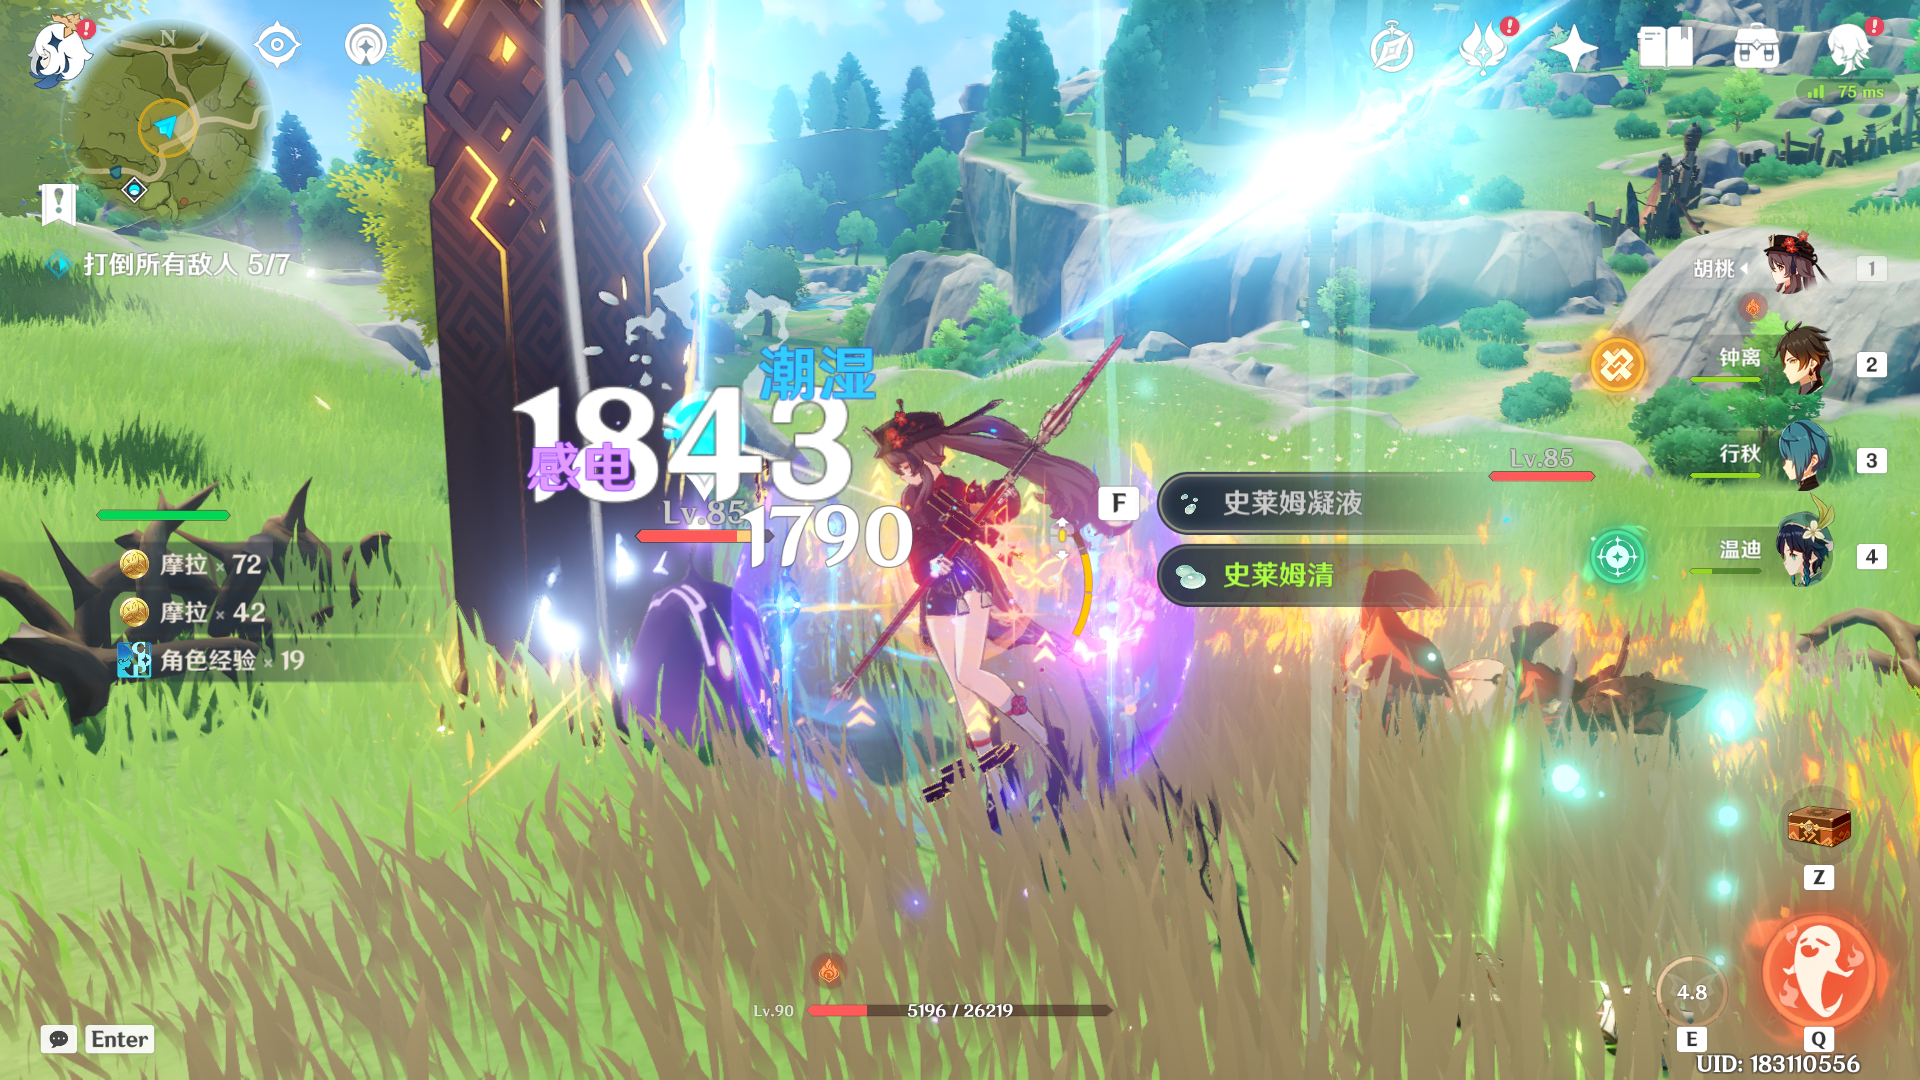character: (787, 380, 1120, 843)
